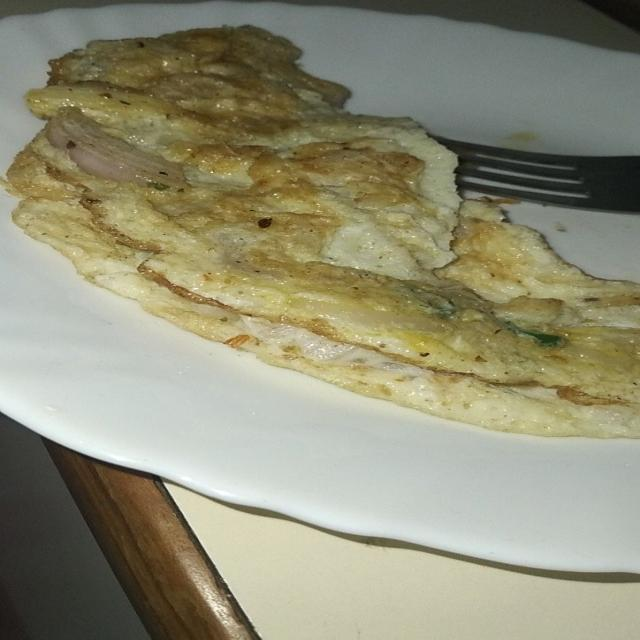omelette: (8, 27, 639, 436)
